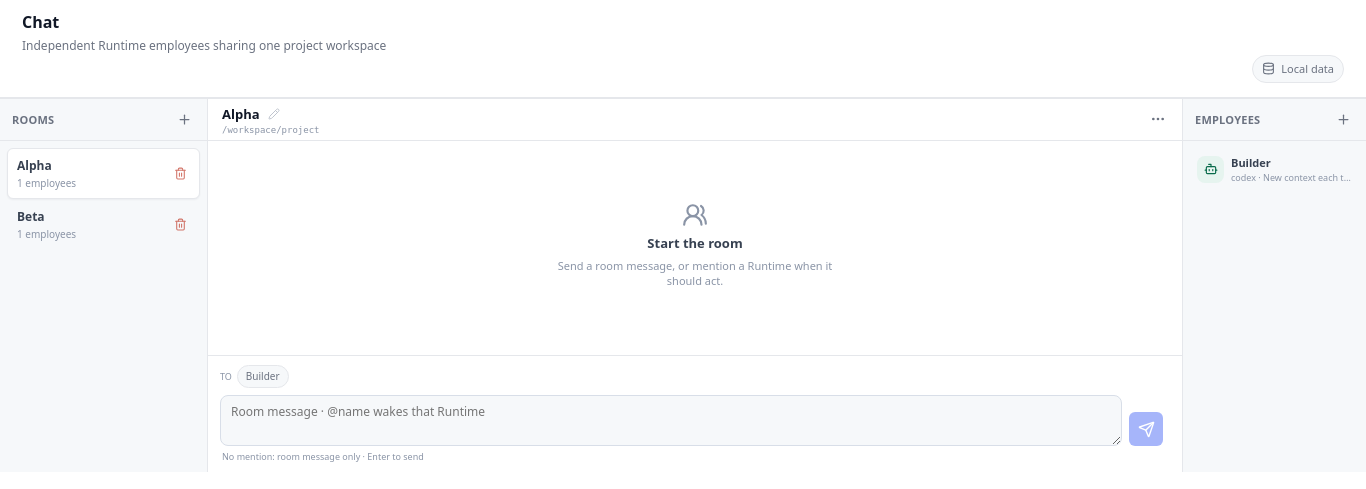
Test case: TeamChatPage rooms › keeps a newly loaded room when its load and the previous room deletion finish together
Check: the 1st text "Alpha" is shown, box [222, 105, 260, 123]
Click the button named "Delete room “Alpha”".
click(180, 173)  # box [165, 158, 195, 188]
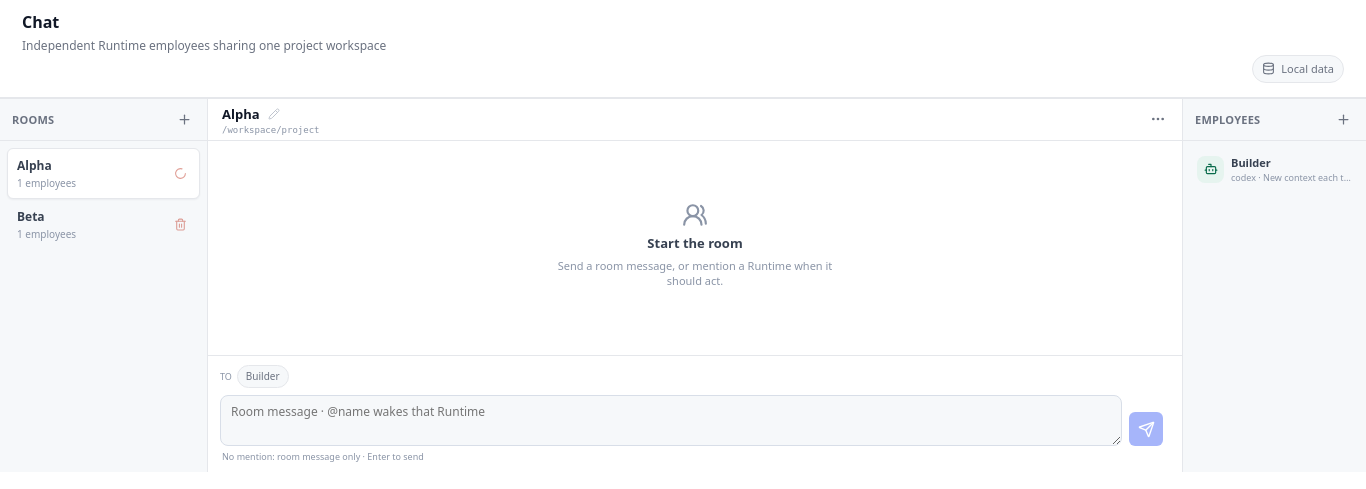
Click the button with class "team-chat-room-select" showing "Beta 1 employees".
click(104, 224)  # box [7, 199, 200, 250]
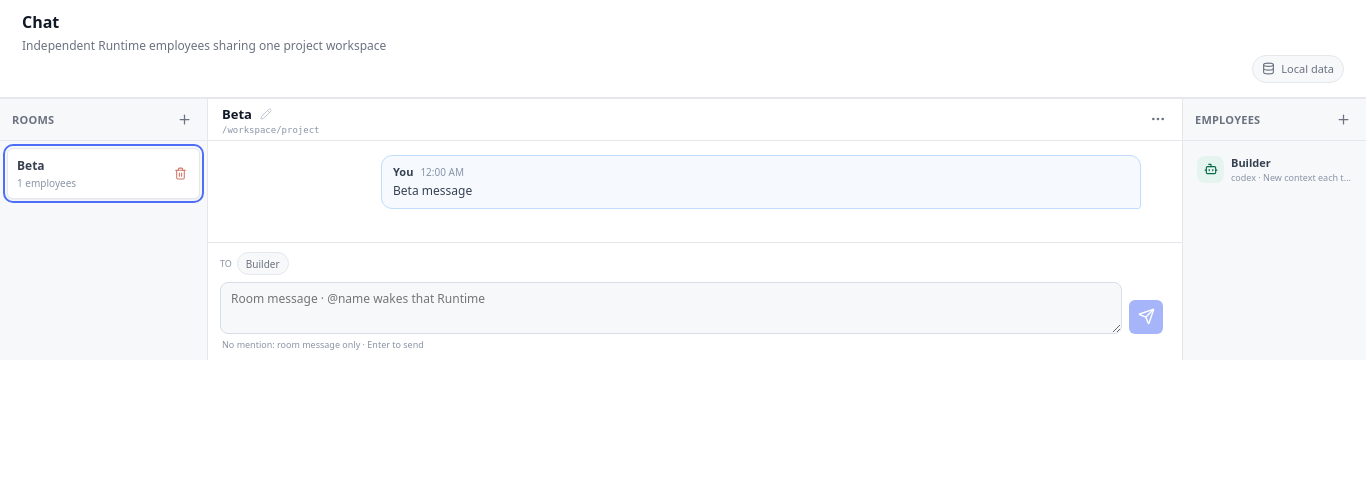
Check: the 1st text "Beta" is shown, box [222, 105, 252, 123]
Check: the text "Beta message" is shown, box [393, 182, 472, 199]
